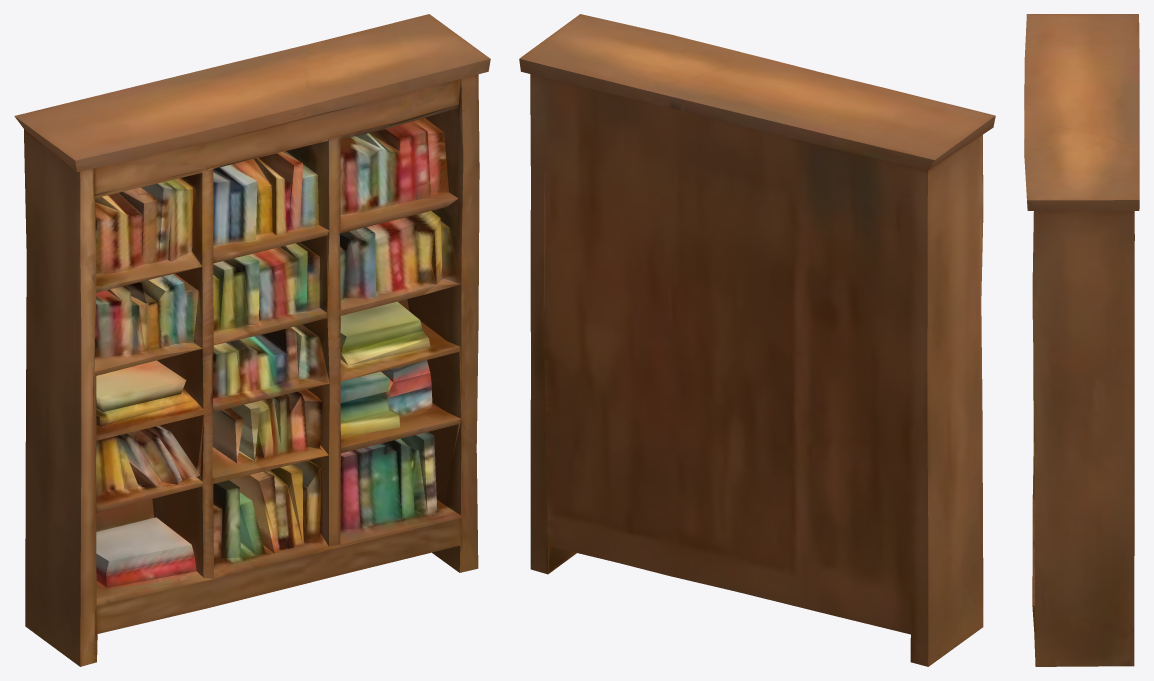
File: bookshelfFull.glb
3 views of the same model, side by side, from view 1: azimuth 30°, elevation 25°; view 2: azimuth 150°, elevation 25°; view 3: azimuth 270°, elevation 25° (orthographic). The views are drawn at different scales.
Visible parts, largest first — view 1: model; view 2: model; view 3: model.
Boxes of the visible parts, box(x1,y1,x2,y2) form: model: box(14, 14, 490, 666); model: box(519, 14, 995, 666); model: box(1024, 14, 1139, 666).
Bounding box in the file's own units: 1.61 × 1.89 × 0.4207.
1 material, 1 textured.
